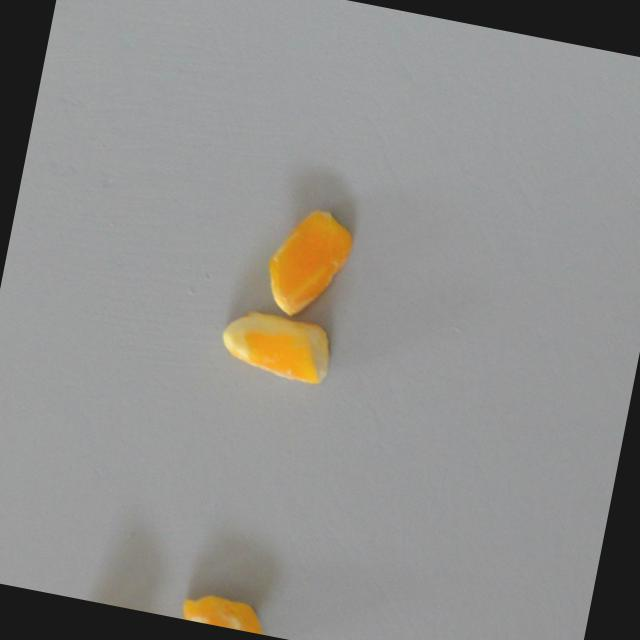pelicula: (258, 197, 360, 325), (217, 304, 338, 386), (180, 588, 273, 636)
